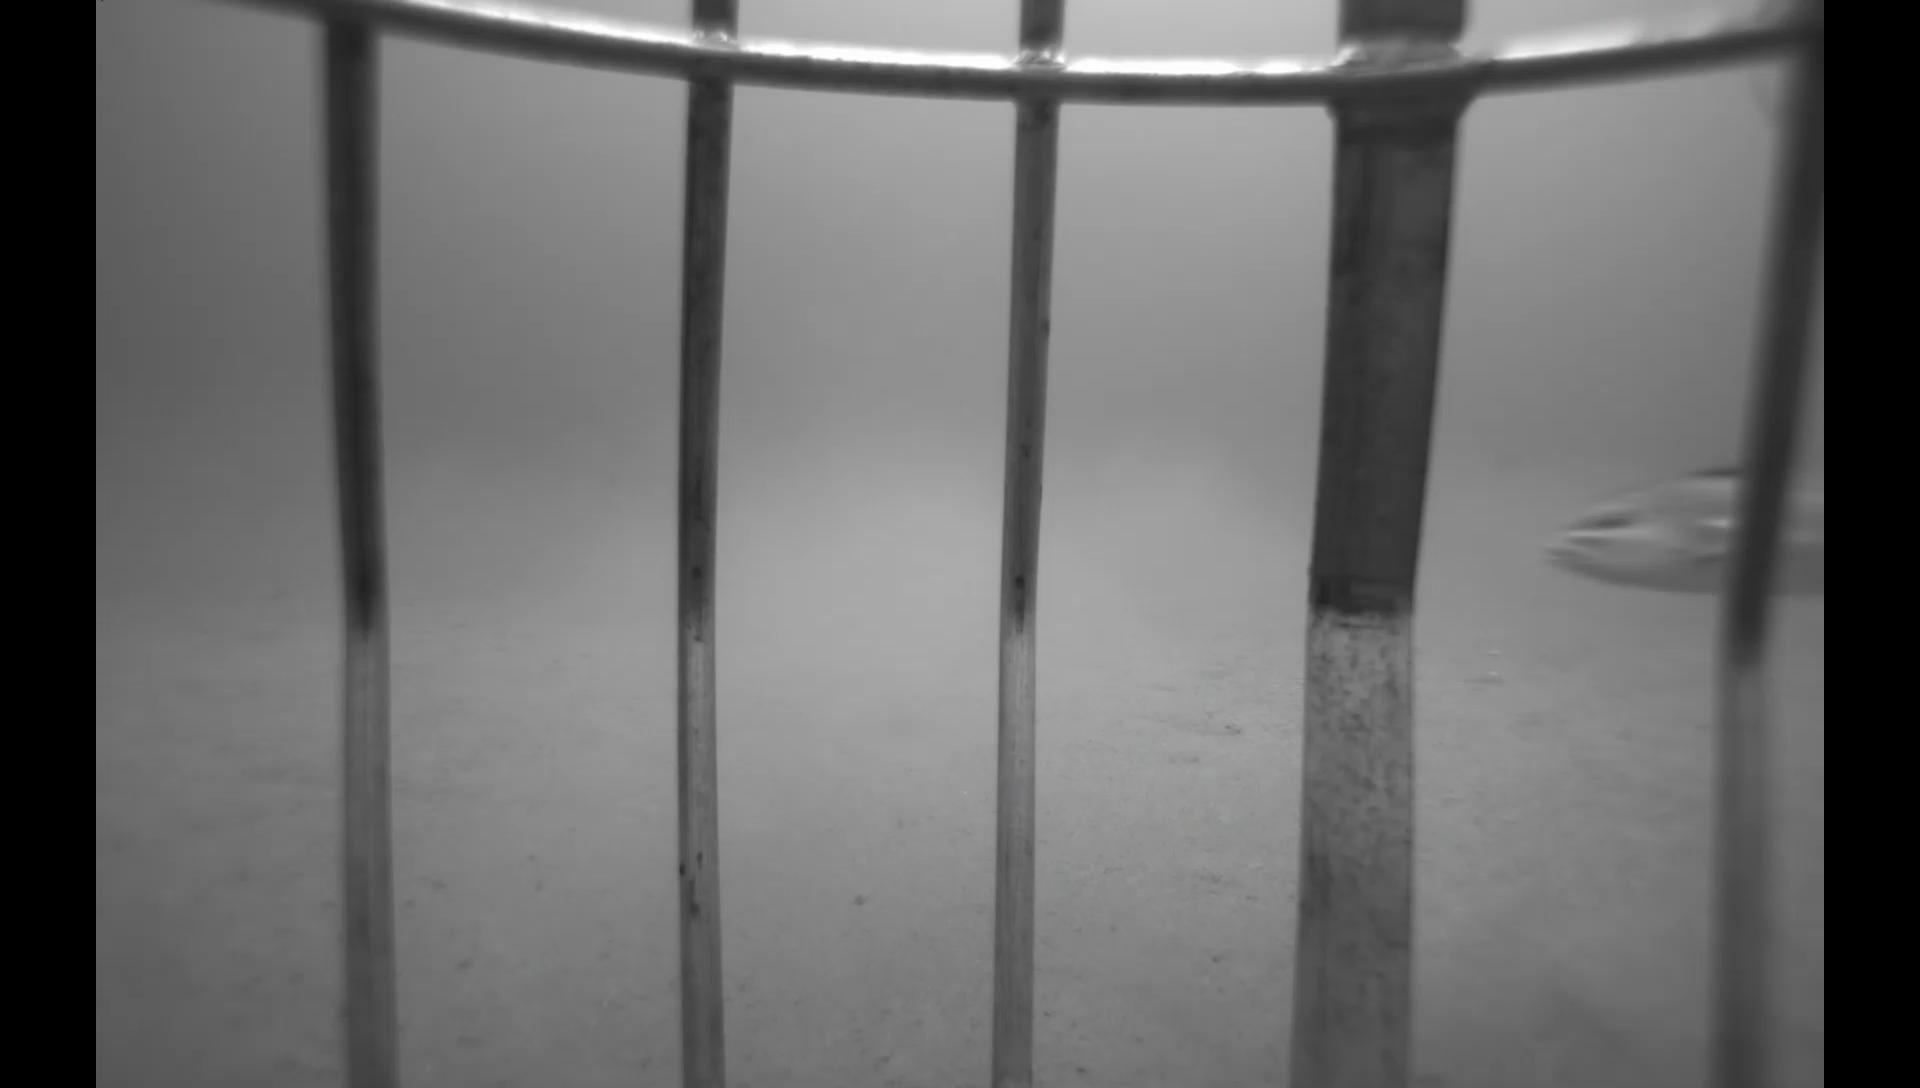CAULOLATILUSCYANOPS-170070101: (1536, 451, 1828, 619)
SYACIUM-183011000: (1143, 699, 1249, 742)
